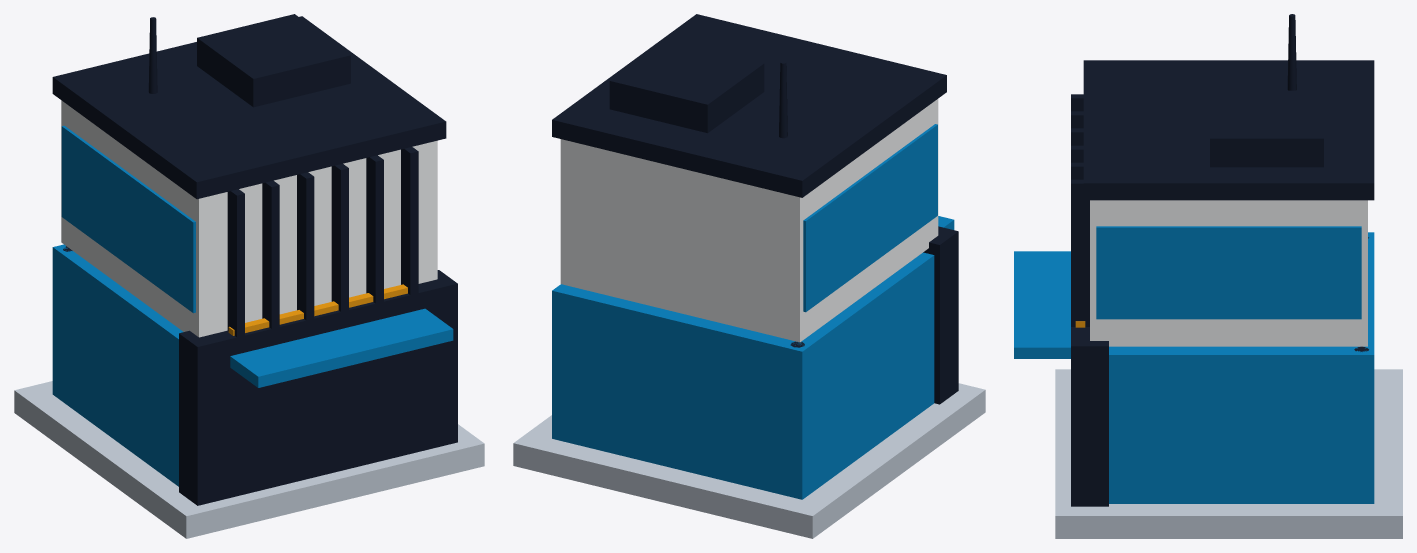
File: bld_metropolis_c1.glb
3 views of the same model, side by side, from view 1: azimuth 30°, elevation 25°; view 2: azimuth 150°, elevation 25°; view 3: azimuth 270°, elevation 25° (orthographic).
Parts seen in each view (by area): view 1: Bld_Metropolis_C1_NeoShophouse; view 2: Bld_Metropolis_C1_NeoShophouse; view 3: Bld_Metropolis_C1_NeoShophouse.
Boxes of the visible parts, x1,y1,x2,y2 form: Bld_Metropolis_C1_NeoShophouse: (14, 14, 484, 538); Bld_Metropolis_C1_NeoShophouse: (513, 14, 985, 538); Bld_Metropolis_C1_NeoShophouse: (1014, 14, 1402, 538).
Size of the model in its own units: 0.55 by 0.73 by 0.615.
